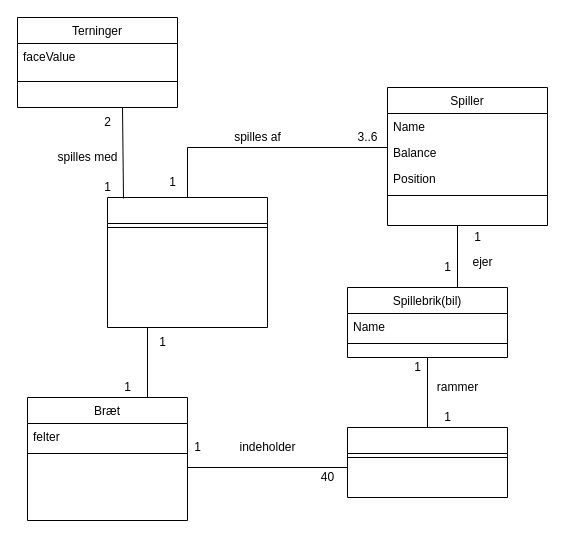
Some shapes in this 565 by 538 pixel diagram are drawn without their labels. Here are the shapes that lost their labels. From the top down, the centre of each, then its label:
point (187, 262): Matador spil
point (427, 462): Felt
